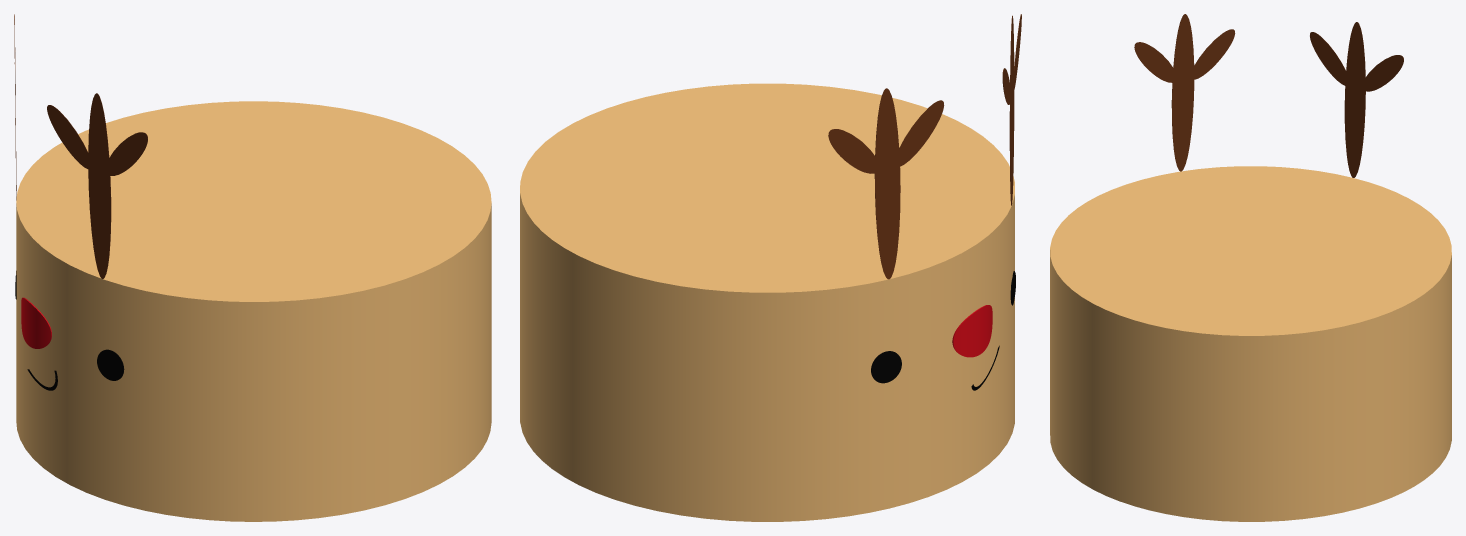
3 views of the same model, side by side, from view 1: azimuth 30°, elevation 25°; view 2: azimuth 150°, elevation 25°; view 3: azimuth 270°, elevation 25° (orthographic). The views are drawn at different scales.
Parts seen in each view (by area): view 1: deer, browmn, red, black; view 2: deer, browmn, red, black; view 3: deer, browmn.
Part boxes in pixels (left/top/right/bottom): deer: left=16, top=101, right=491, bottom=521; browmn: left=14, top=14, right=147, bottom=278; red: left=21, top=297, right=51, bottom=348; black: left=15, top=271, right=124, bottom=390; deer: left=520, top=83, right=1014, bottom=521; browmn: left=828, top=14, right=1021, bottom=279; red: left=952, top=305, right=992, bottom=357; black: left=871, top=271, right=1015, bottom=390; deer: left=1050, top=166, right=1451, bottom=521; browmn: left=1134, top=14, right=1403, bottom=177.
Size of the model in its own units: 3012 by 2759 by 2936.
